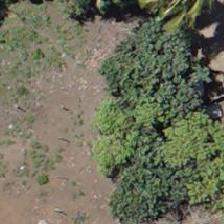coconut_tree: (151, 0, 223, 51)
